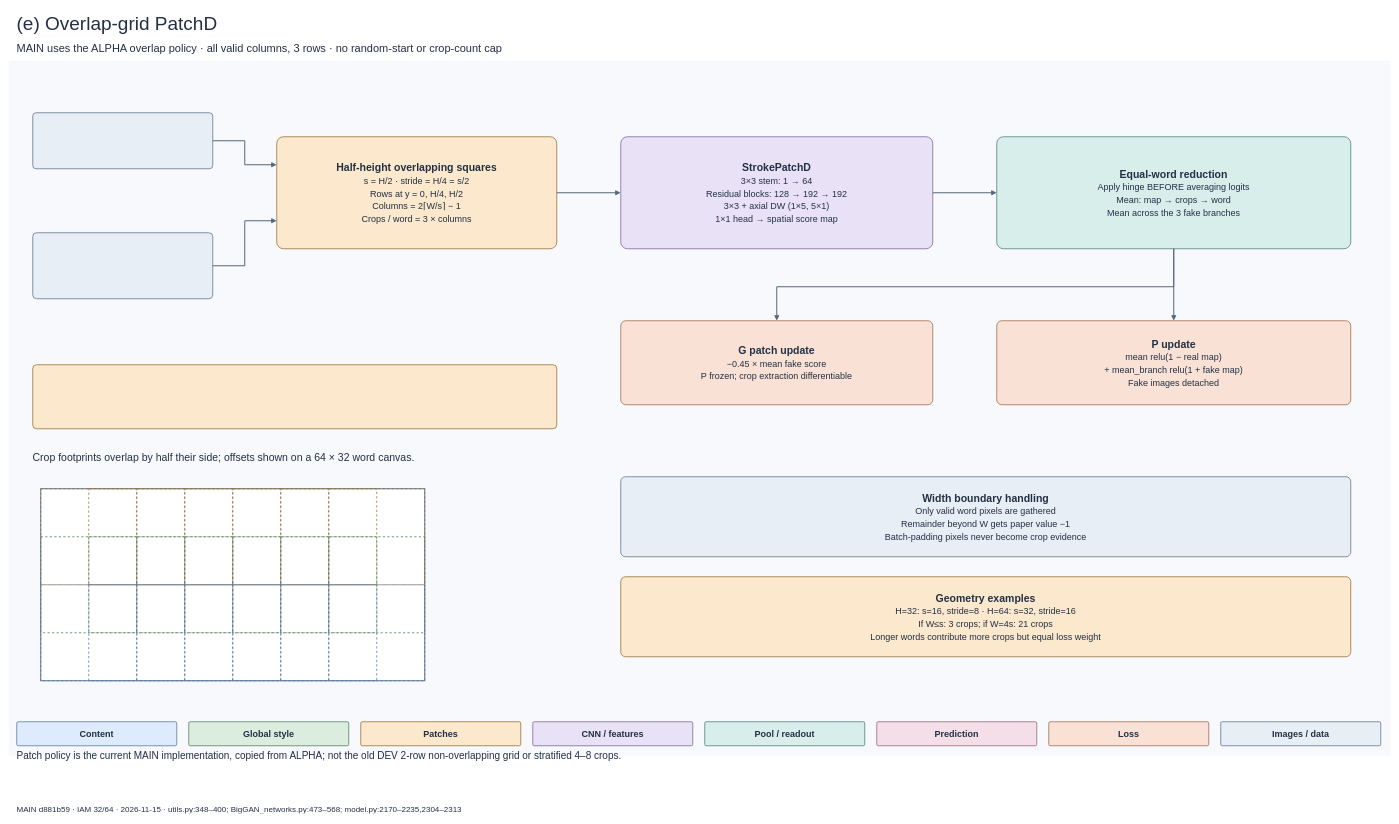
Some shapes in this 1399 by 824 pixel diagram are drawn without their labels. Each missing label, with the centre of its shape:
"Example: H=32, W=64 s=16 · stride=8 3 rows × 7 columns = 21 crops" goes at (294,396).
"Real words Canonical valid widths" goes at (122,140).
"Three fake branches Random · transfer · same-text" goes at (122,265).
